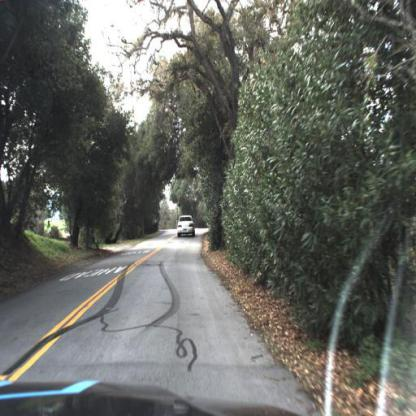car: (172, 212, 196, 244)
